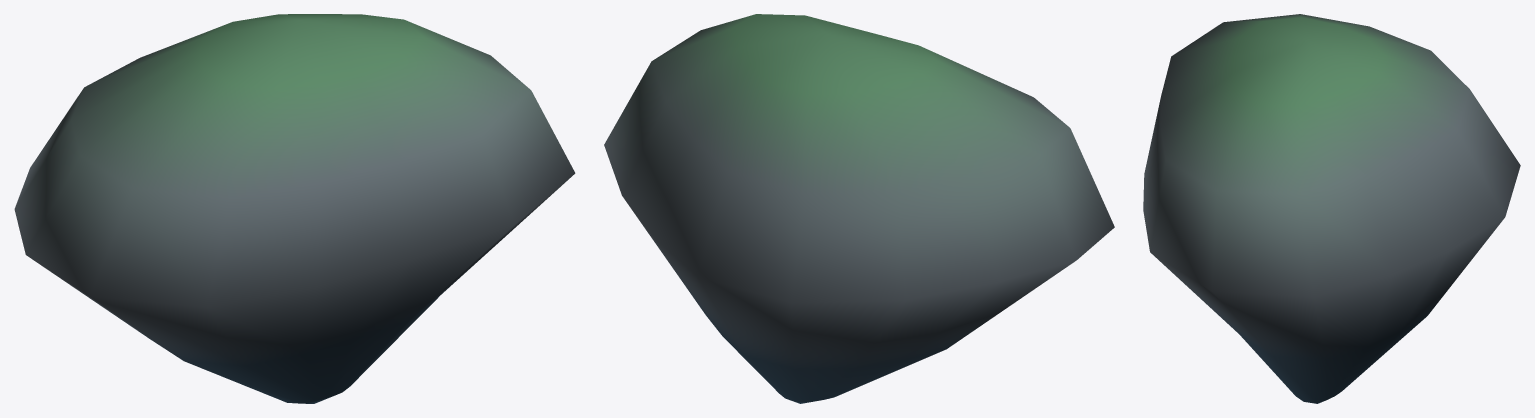
Rendered from wind-rock-preview-140.glb.
The picture shows the model from 3 angles, left to right: view 1: azimuth 30°, elevation 25°; view 2: azimuth 150°, elevation 25°; view 3: azimuth 270°, elevation 25°; orthographic projection. The views are drawn at different scales.
Visible parts, largest first — view 1: Wind-carved hanging rock; view 2: Wind-carved hanging rock; view 3: Wind-carved hanging rock.
Part boxes in pixels (x1=…): Wind-carved hanging rock: x1=14, y1=14, x2=575, y2=403; Wind-carved hanging rock: x1=604, y1=14, x2=1114, y2=403; Wind-carved hanging rock: x1=1143, y1=14, x2=1520, y2=403.
Size of the model in its own units: 8.46 by 6.35 by 6.14.
